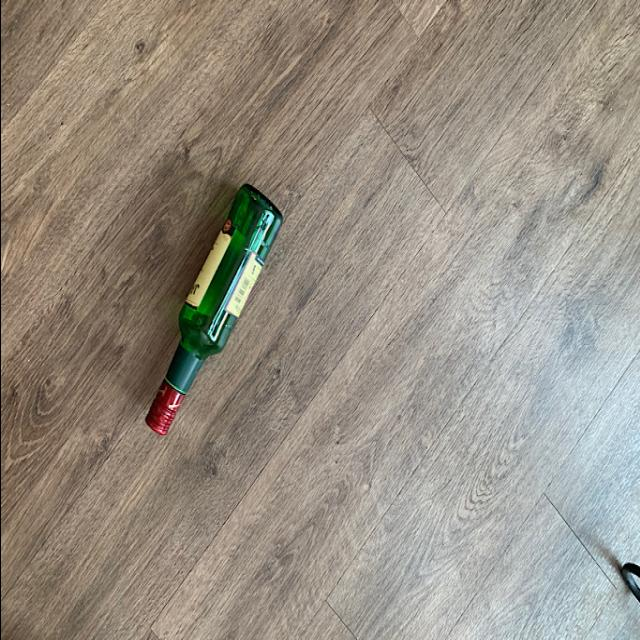litter: (138, 180, 280, 441)
